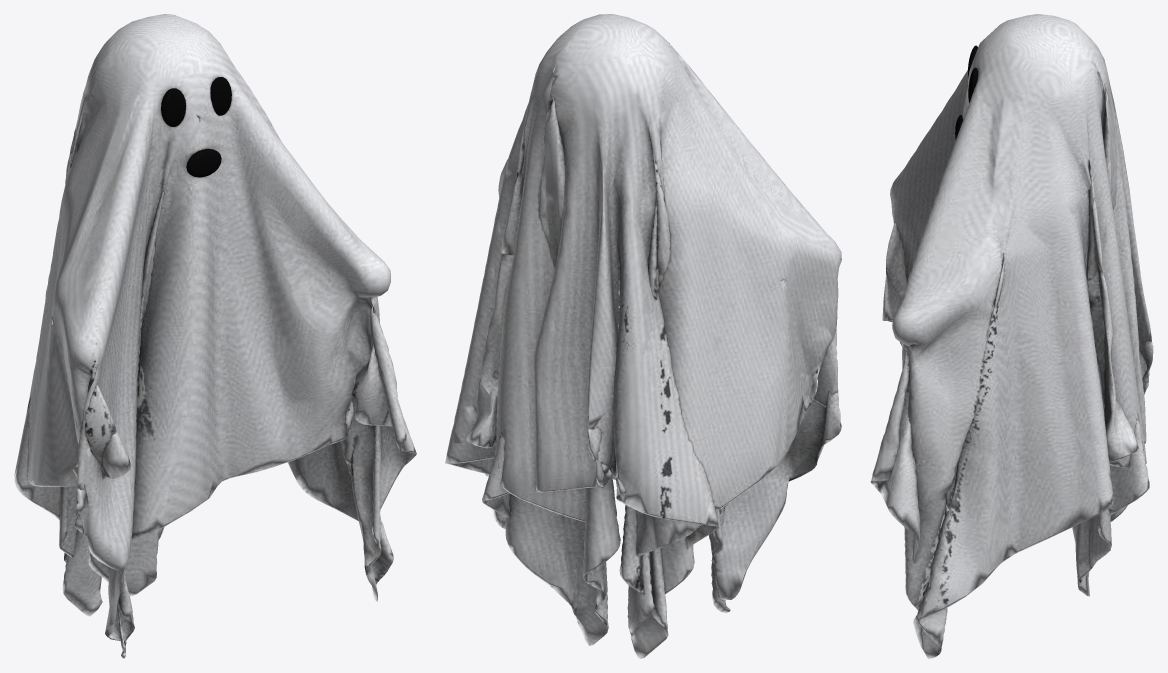
File: ghost.glb
3 renders of one model, left to right at view 1: azimuth 30°, elevation 25°; view 2: azimuth 150°, elevation 25°; view 3: azimuth 270°, elevation 25°, orthographic. The views are drawn at different scales.
Visible parts, largest first — view 1: Ghost_Sheet, Ghost_Face; view 2: Ghost_Sheet; view 3: Ghost_Sheet, Ghost_Face.
Part boxes in pixels (x1,y1,x2,y2): Ghost_Sheet: [14, 14, 416, 658]; Ghost_Face: [161, 77, 231, 177]; Ghost_Sheet: [445, 14, 841, 658]; Ghost_Sheet: [870, 14, 1153, 658]; Ghost_Face: [955, 45, 977, 139].
Bounding box in the file's own units: 0.9517 × 1.59 × 0.7023.
Materials: 1 (1 with a texture image).
